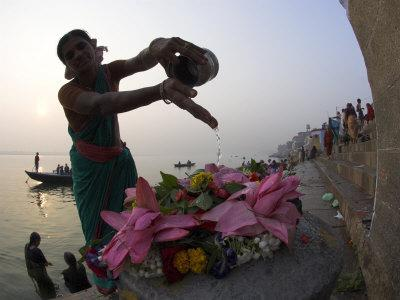person: (58, 29, 221, 249)
